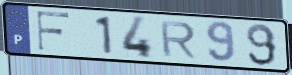1: (94, 15, 114, 55)
4: (120, 15, 156, 60)
9: (244, 22, 279, 68), (204, 20, 237, 65)
F: (35, 10, 72, 53)
R: (158, 20, 198, 60)
